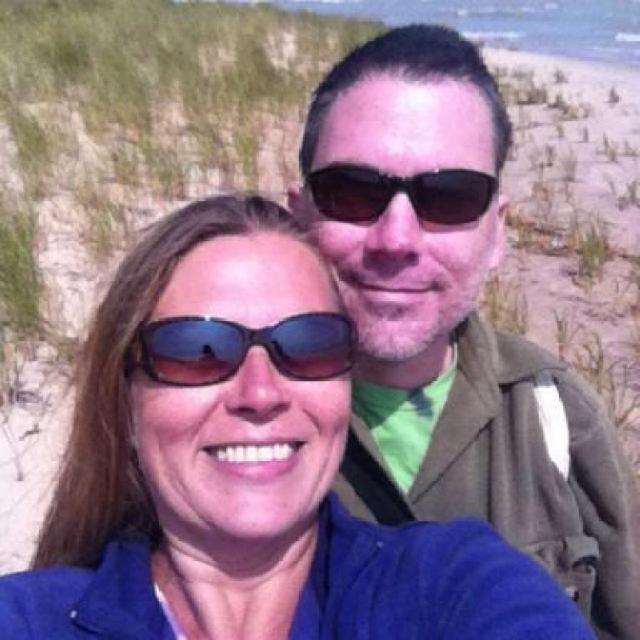face_nomask: (124, 304, 367, 498), (317, 159, 494, 316)
glasses: (143, 307, 362, 396), (306, 159, 506, 232)
head_nohelmet: (111, 190, 364, 281), (308, 15, 518, 119)
